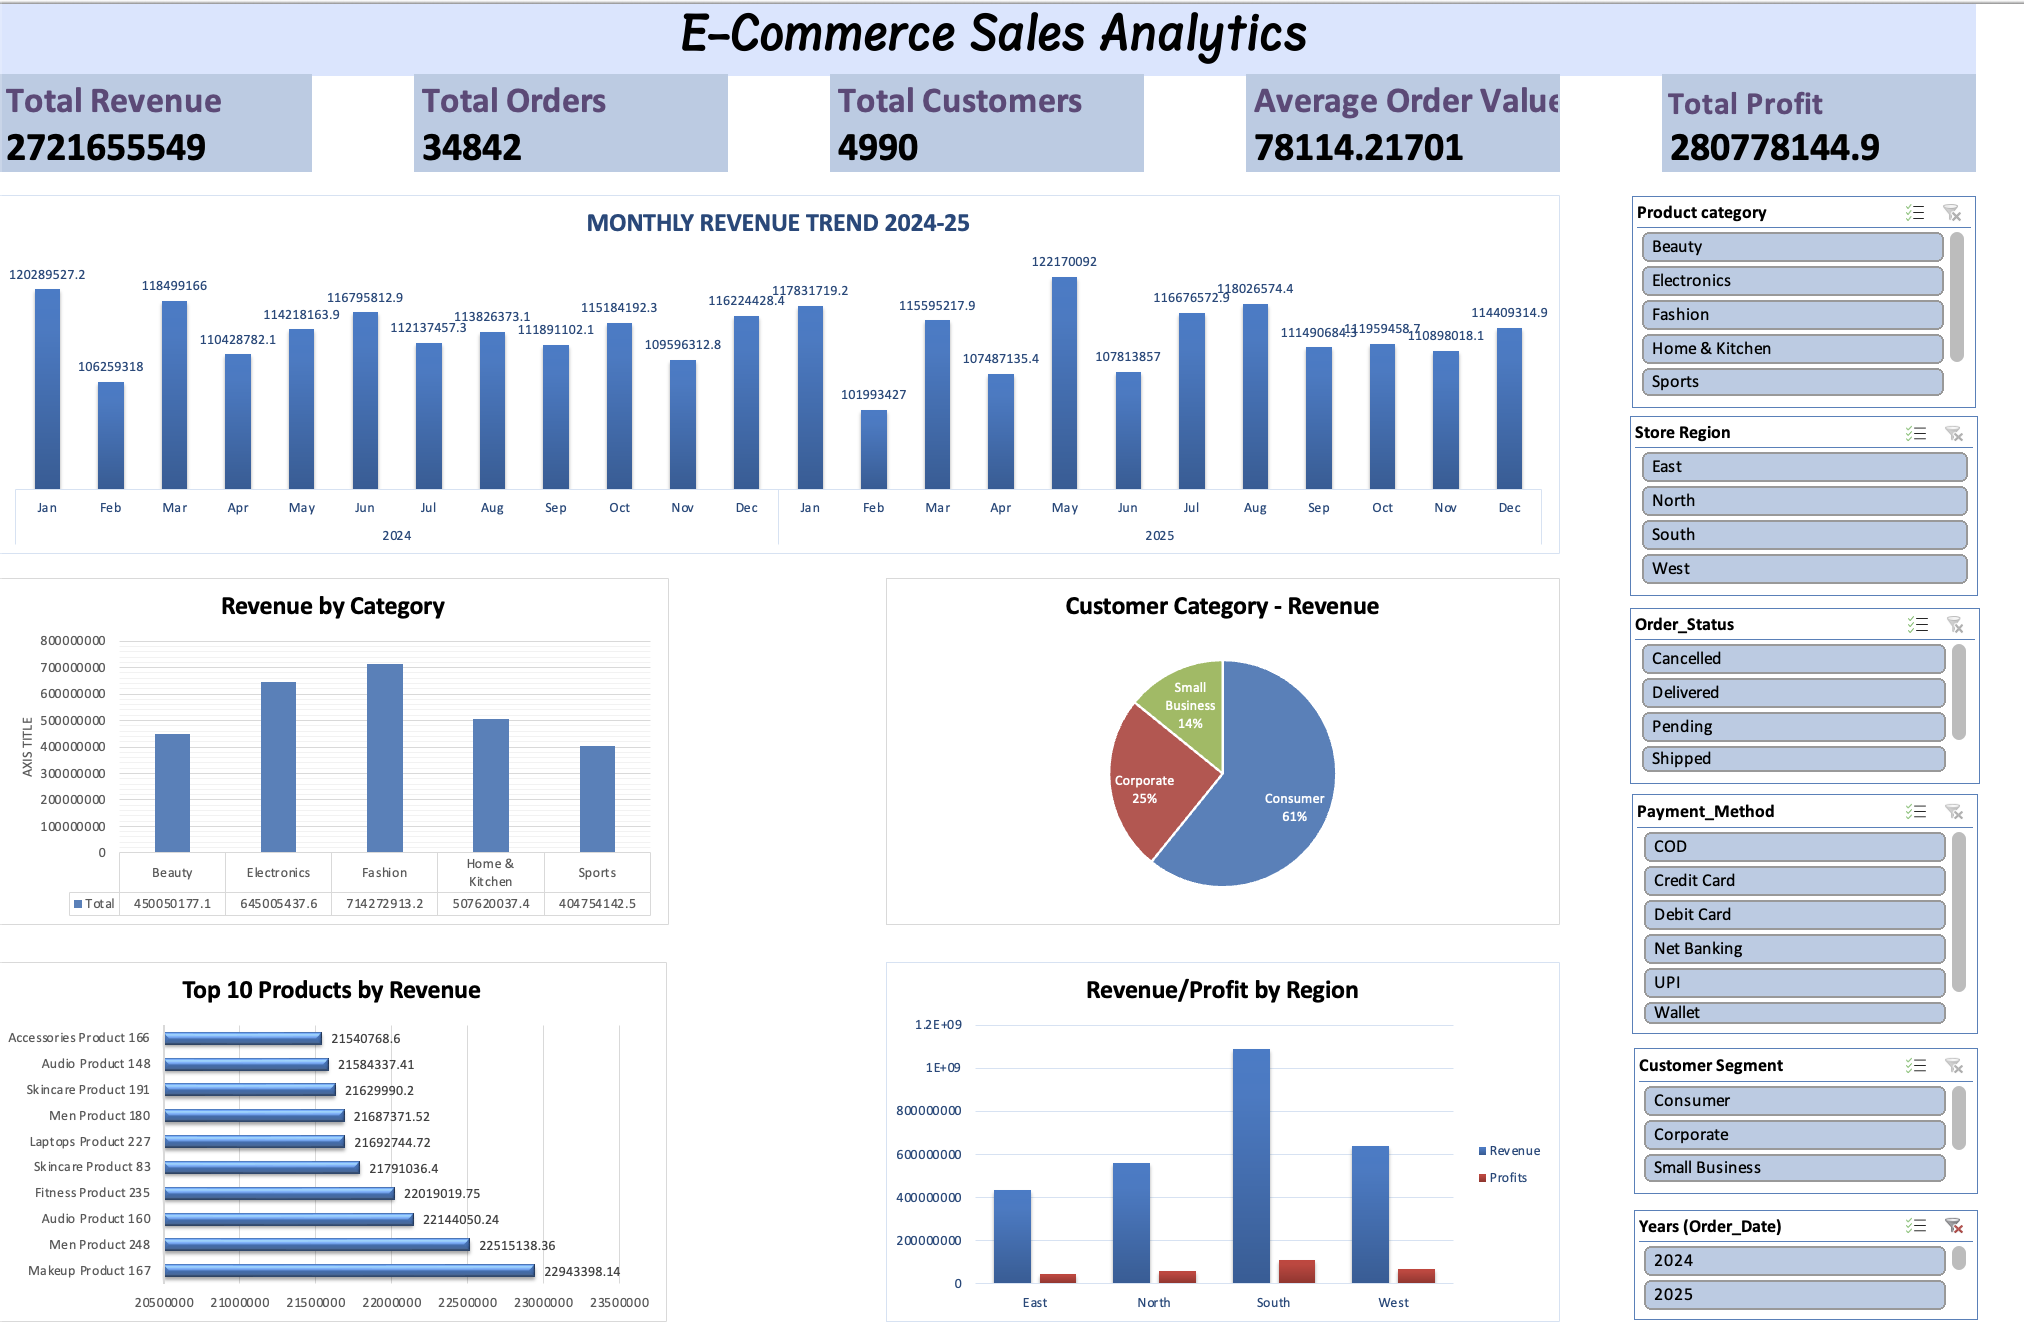

The page's visual inventory and layout, read from the dashboard file:
{"tool":"powerbi","page":{"name":"Executive Overview","canvas":[1920,1080],"ordinal":0},"visuals":[{"type":"cardVisual","title":"Revenue","fields":{"Data":["Table1.Total_Sales"]},"box":[0,84,198,94],"z":0},{"type":"cardVisual","title":"Orders","fields":{"Data":["Table1.Total_Orders"]},"box":[446,84,208,94],"z":1000},{"type":"cardVisual","title":"Customers ","fields":{"Data":["Table1.Total_customers"]},"box":[894,84,196,94],"z":2000},{"type":"cardVisual","title":"AOV ","fields":{"Data":["Table1.Average_Order_Value"]},"box":[1112,84,188,94],"z":3000},{"type":"cardVisual","title":"Profit ","fields":{"Data":["Table1.Total_Profit"]},"box":[674,84,194,94],"z":4000},{"type":"cardVisual","title":"Margin %","fields":{"Data":["Table1.Profit Margin %"]},"box":[222,84,200,94],"z":5000},{"type":"textbox","box":[0,0,1920,78.4],"z":6000},{"type":"columnChart","title":"Monthly Revenue Trend","fields":{"Y":["Sum(Table1.Gross Sales)"],"Category":["Date_Table.Month_number","Date_Table.Month","Date_Table.Date"]},"box":[0,204,1300,324],"z":7000},{"type":"clusteredBarChart","title":"Revenue by Category","fields":{"Category":["Products_Raw.category"],"Y":["Sum(Table1.Gross Sales)"]},"box":[0,546,626,438],"z":8000},{"type":"clusteredBarChart","title":"Revenue by Region","fields":{"Category":["Stores_Raw.region"],"Y":["Sum(Table1.Gross Sales)"]},"box":[674,546,626,438],"z":9000},{"type":"slicer","fields":{"Values":["Stores_Raw.region"]},"box":[1671.4,545,248.6,328.9],"z":10000},{"type":"slicer","fields":{"Values":["Products_Raw.category"]},"box":[1371.2,78.4,248.6,319.4],"z":11000},{"type":"slicer","fields":{"Values":["Customers_Raw.customer_segment"]},"box":[1371.2,545,248.6,328.9],"z":12000},{"type":"slicer","fields":{"Values":["Date_Table.Year"]},"box":[1671.4,78.4,248.6,191.2],"z":13000}]}

Visuals, with their boxes on the page's 1920x1080 design canvas (x1, y1, x2, y2). These are canvas units, not pixel positions in the 2024x1338 screenshot, which may show the page scaled, cropped or inside an application window:
"Revenue" cardVisual: BBox(0, 84, 198, 178)
"Orders" cardVisual: BBox(446, 84, 654, 178)
"Customers " cardVisual: BBox(894, 84, 1090, 178)
"AOV " cardVisual: BBox(1112, 84, 1300, 178)
"Profit " cardVisual: BBox(674, 84, 868, 178)
"Margin %" cardVisual: BBox(222, 84, 422, 178)
textbox: BBox(0, 0, 1920, 78)
"Monthly Revenue Trend" columnChart: BBox(0, 204, 1300, 528)
"Revenue by Category" clusteredBarChart: BBox(0, 546, 626, 984)
"Revenue by Region" clusteredBarChart: BBox(674, 546, 1300, 984)
slicer - Stores_Raw.region: BBox(1671, 545, 1920, 874)
slicer - Products_Raw.category: BBox(1371, 78, 1620, 398)
slicer - Customers_Raw.customer_segment: BBox(1371, 545, 1620, 874)
slicer - Date_Table.Year: BBox(1671, 78, 1920, 270)
